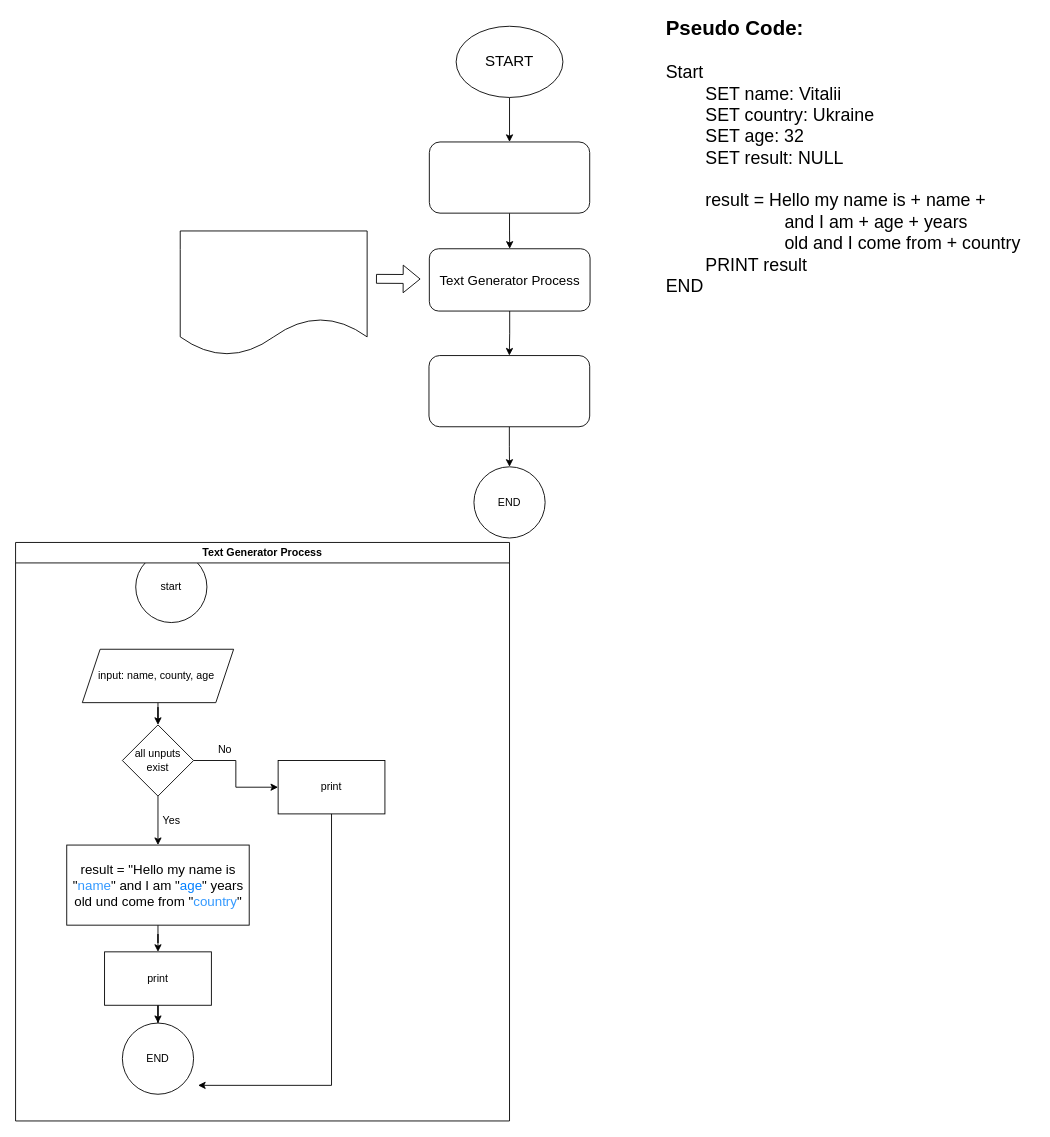
Image size: 1050x1137. Some labels were removed from this diagram. Each missing label, with the centre of its shape:
define variable: name: "Vitalii" country: "Ukraine" age: "32": (x=509, y=177)
print: result: (x=509, y=391)
Process: means when your app shall do something itself: (x=273, y=293)
